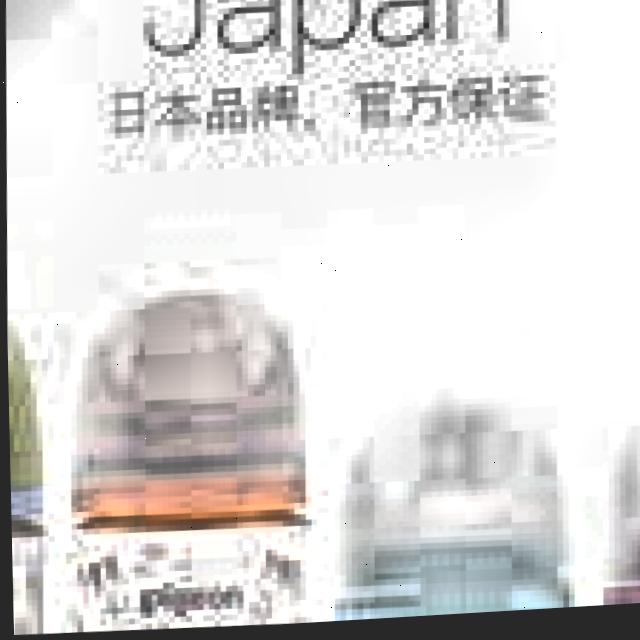plastic: (57, 284, 321, 637)
